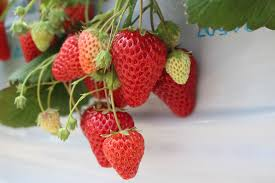ripe: (110, 26, 164, 108), (77, 101, 136, 171), (149, 54, 201, 125), (100, 132, 150, 182), (50, 32, 88, 83), (20, 30, 43, 65), (2, 19, 14, 70)
unripe: (77, 29, 114, 76), (28, 13, 55, 51), (166, 48, 190, 86), (39, 107, 66, 137)
